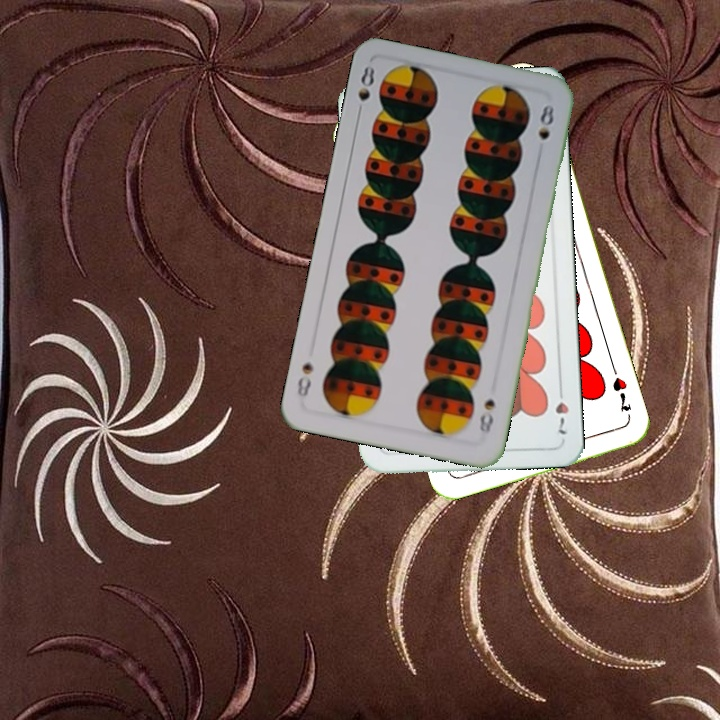H7: (552, 381, 572, 437), (608, 373, 634, 415)
S8: (352, 61, 377, 120), (475, 395, 498, 437)
